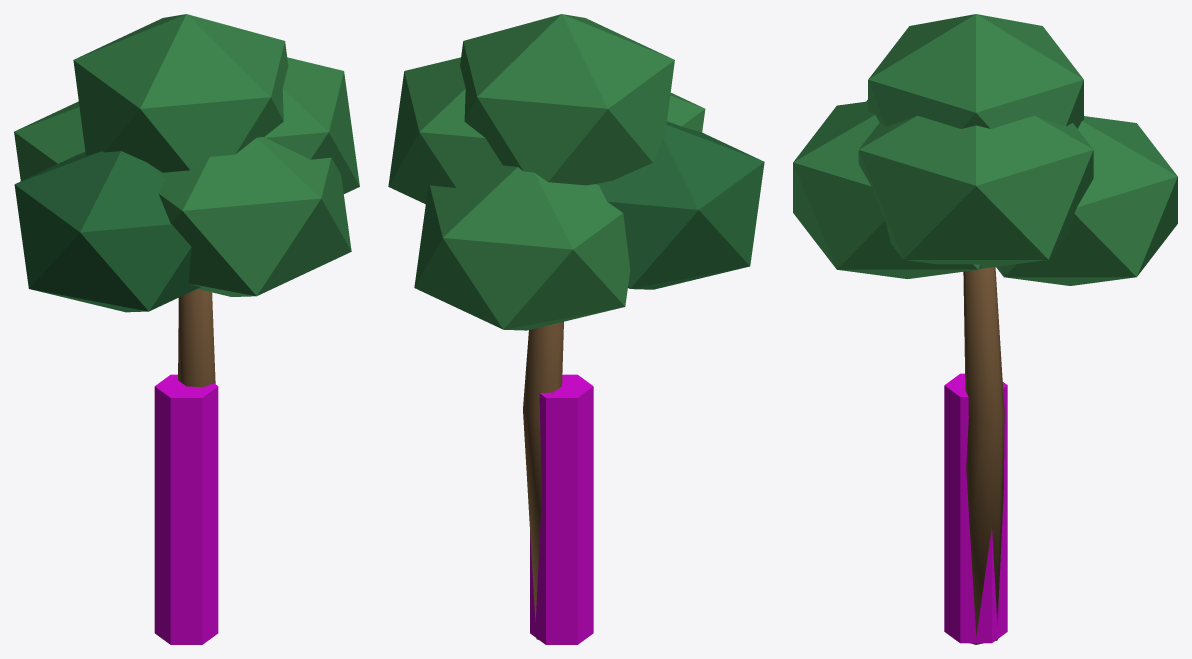
The model's file is jungle_tree.glb.
The picture shows the model from 3 angles, left to right: view 1: azimuth 30°, elevation 25°; view 2: azimuth 150°, elevation 25°; view 3: azimuth 270°, elevation 25°; orthographic projection.
Visible parts, largest first — view 1: jungle_tree, COL_jungle_tree; view 2: jungle_tree, COL_jungle_tree; view 3: jungle_tree, COL_jungle_tree.
Part boxes in pixels (x1,y1,x2,y2): jungle_tree: (14, 14, 359, 387); COL_jungle_tree: (154, 374, 218, 644); jungle_tree: (388, 14, 764, 639); COL_jungle_tree: (530, 374, 593, 644); jungle_tree: (793, 14, 1177, 644); COL_jungle_tree: (944, 373, 1007, 643).
Bounding box in the file's own units: 4.2 × 7.54 × 4.25.
